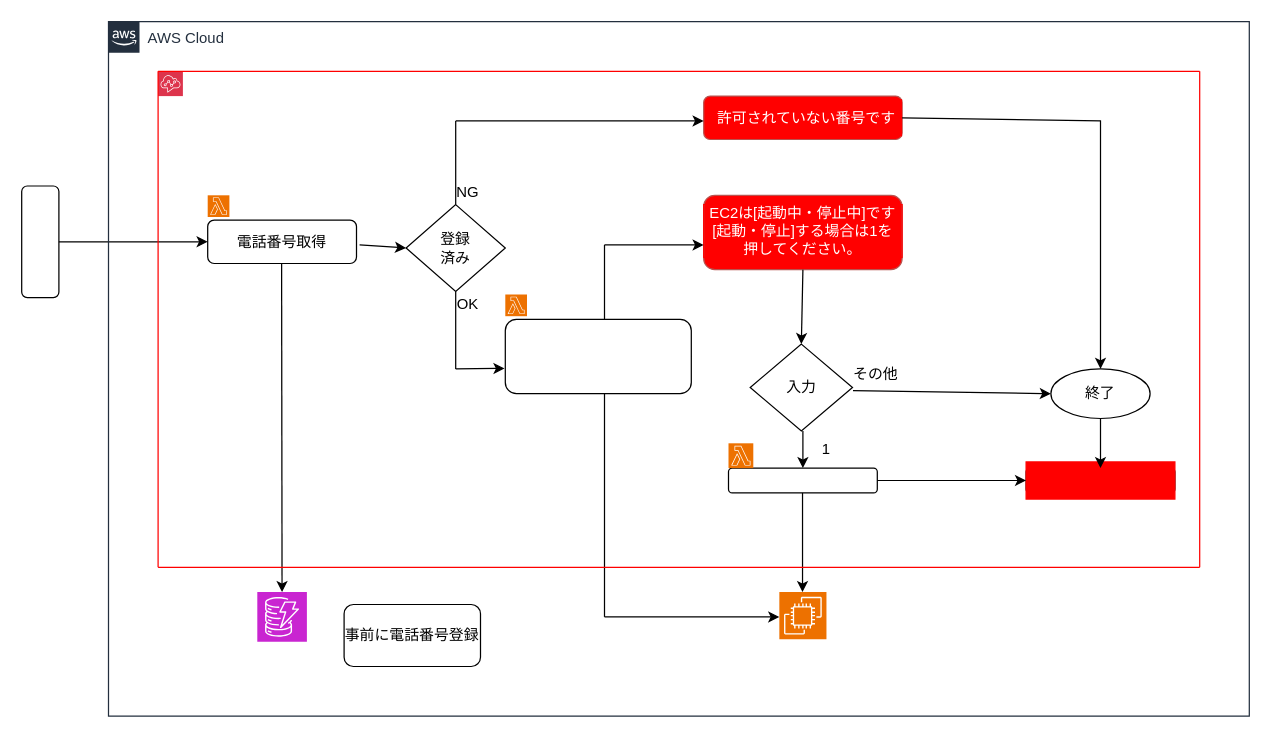
Some shapes in this 1271 by 738 pixel diagram are drawn without their labels. The shapes that lost their labels are listed below. From the top down, each one's centre as x and y in pixels, then its label:
At (x=39, y=241): "電話発信".
At (x=597, y=356): "EC2の起動状況取得".
At (x=802, y=480): "EC2の[起動・停止]".
At (x=1100, y=480): "処理が完了しました".
